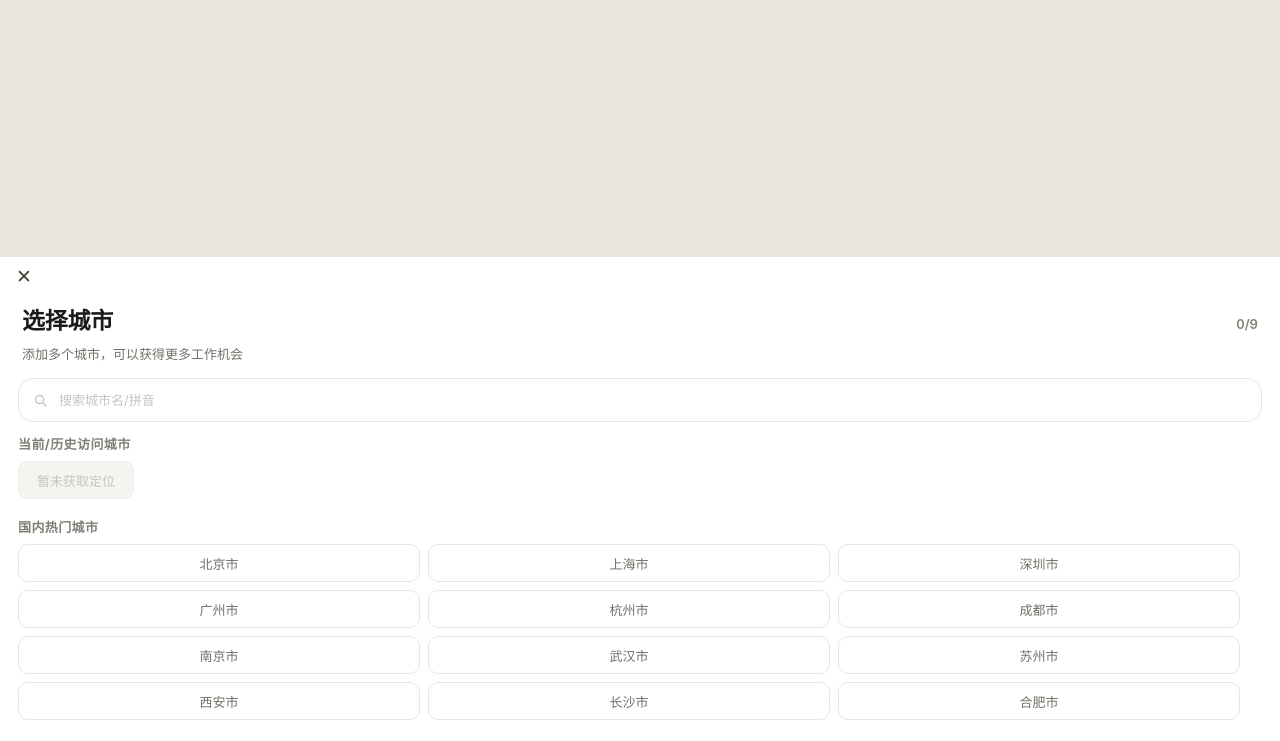
Test: 选择城市 Backend（引用身份与分页边界） › 旧搜索晚到不覆盖新搜索（页面级代际守卫，翻页在飞行中换词）
(page scrolled)
Type "A" into the field with placeholder "搜索城市名/拼音".
click(652, 400); type("A")  # box [57,391,1247,409]
(page scrolled)
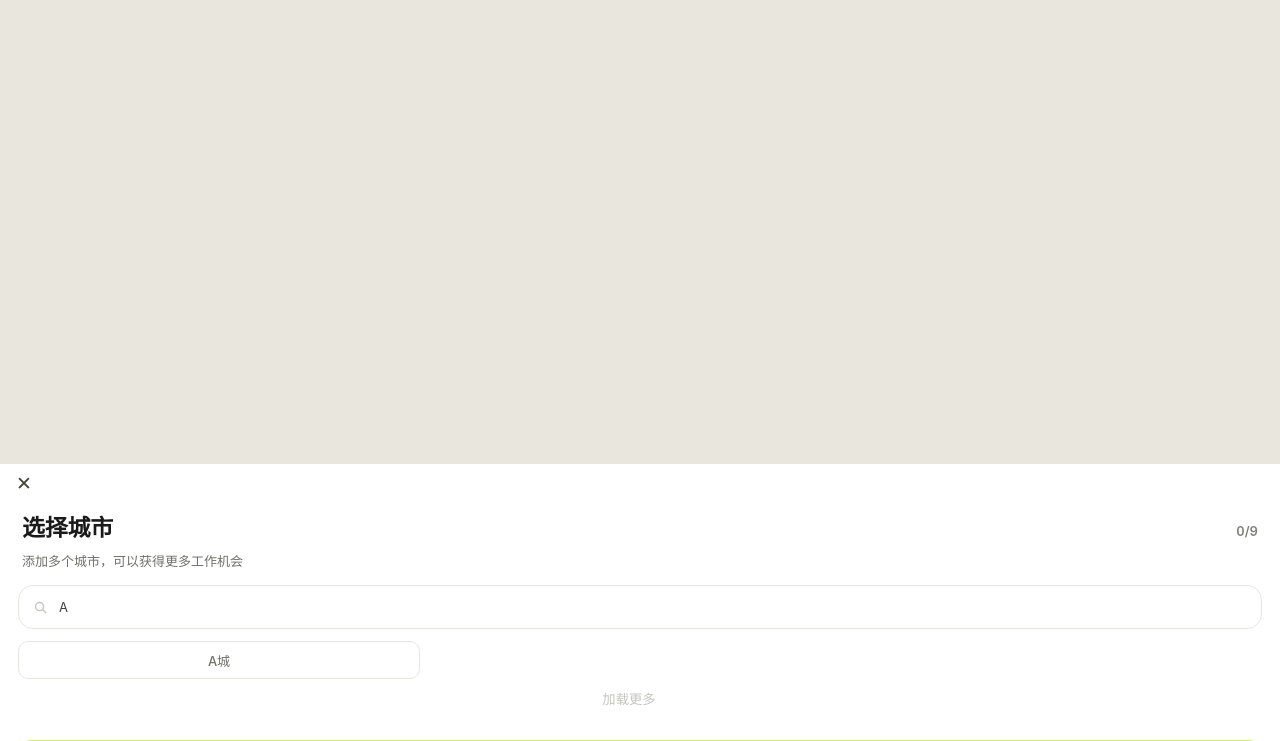
Result: the button "A城" is shown at [18,641,420,679]
# A 的第二页在飞行中时换词到 B
Click the button "加载更多".
click(629, 699)  # box [18,679,1240,718]
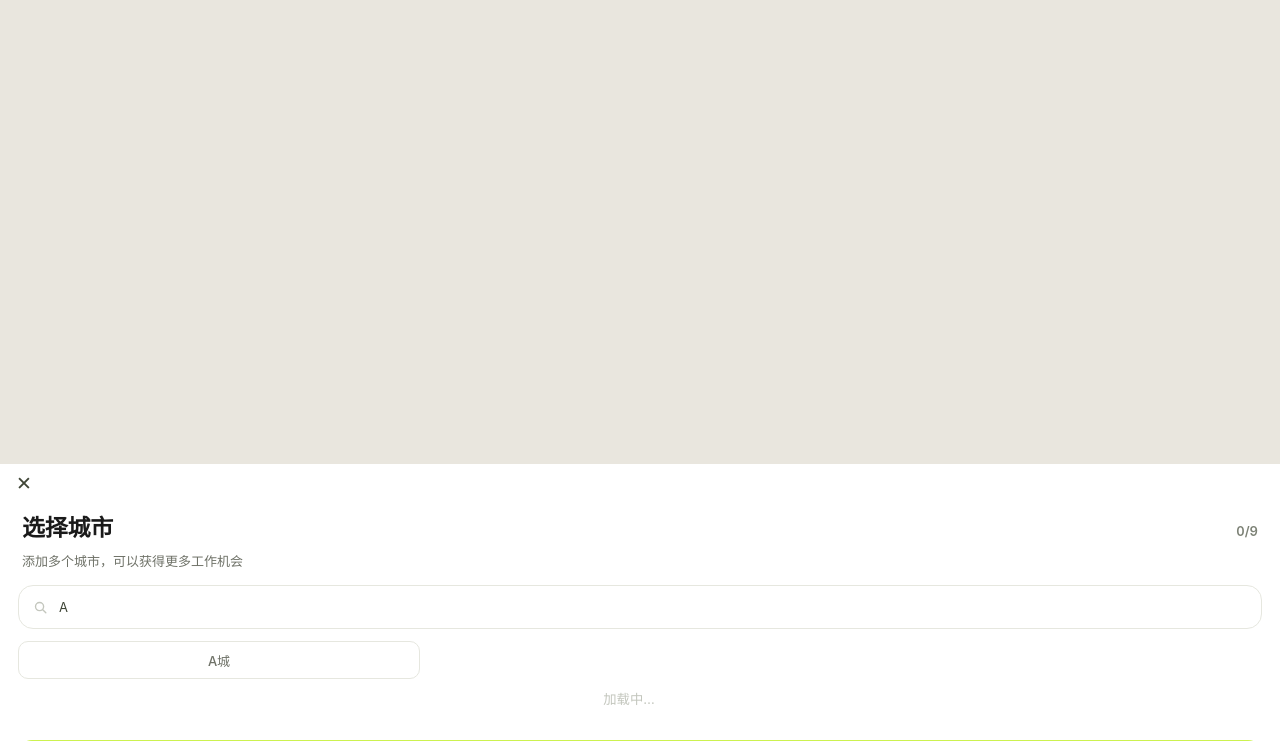
Replace the text in the field with placeholder "搜索城市名/拼音" with "B" at (652, 607), box [57,598,1247,616]
(page scrolled)
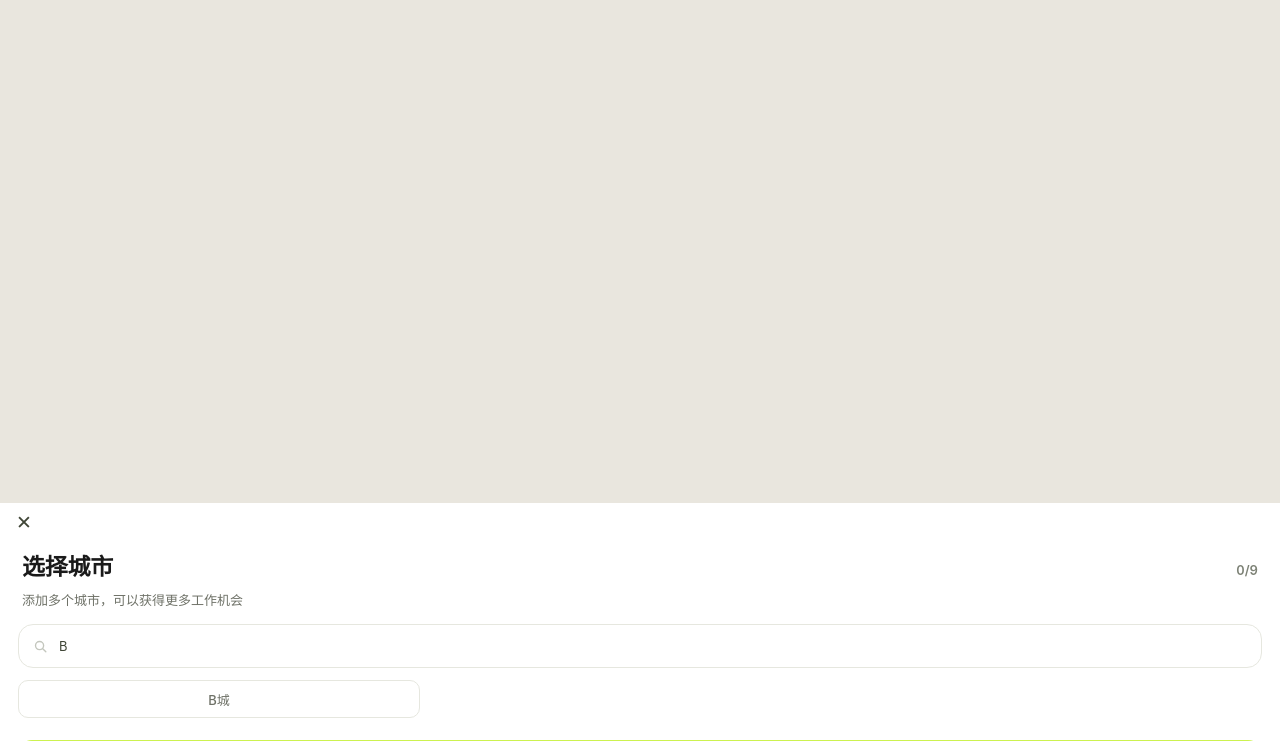
Result: the button "B城" is shown at [18,680,420,718]
